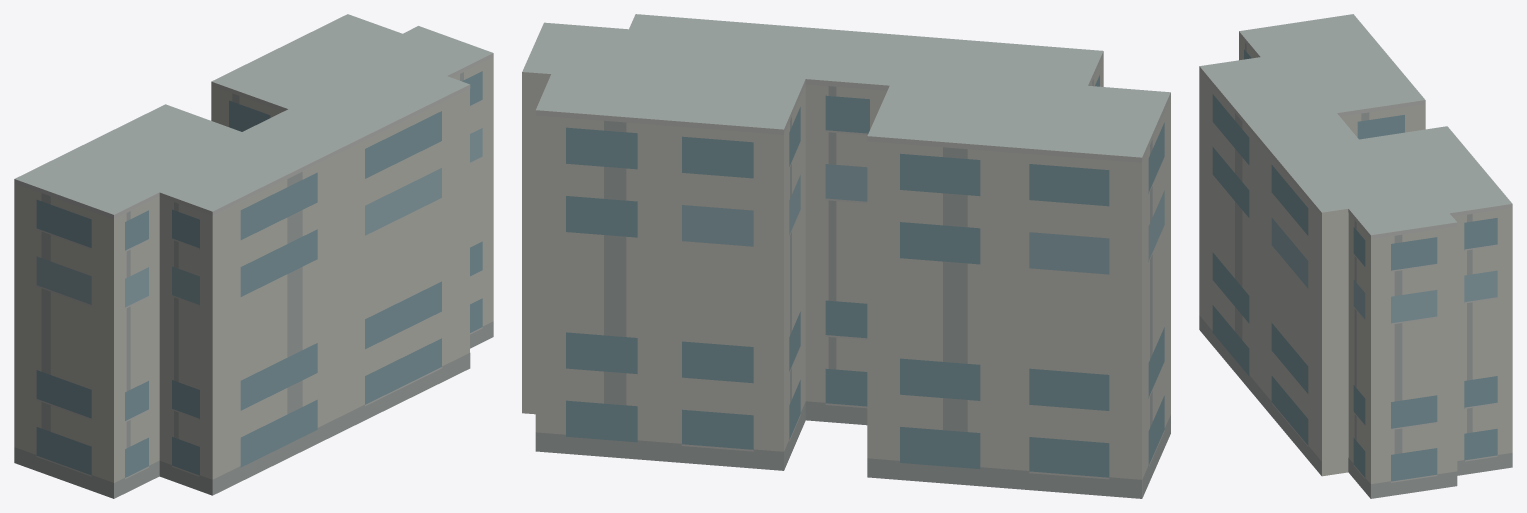
Rendered from survey-upis-32467874.glb.
The picture shows the model from 3 angles, left to right: view 1: azimuth 30°, elevation 25°; view 2: azimuth 150°, elevation 25°; view 3: azimuth 270°, elevation 25°; orthographic projection. The views are drawn at different scales.
Visible parts, largest first — view 1: survey-upis-32467874.tmp; view 2: survey-upis-32467874.tmp; view 3: survey-upis-32467874.tmp.
Boxes of the visible parts, x1,y1,x2,y2 form: survey-upis-32467874.tmp: (14, 14, 493, 498); survey-upis-32467874.tmp: (522, 14, 1170, 498); survey-upis-32467874.tmp: (1199, 14, 1512, 498).
Size of the model in its own units: 28.63 by 15.9 by 17.13.
